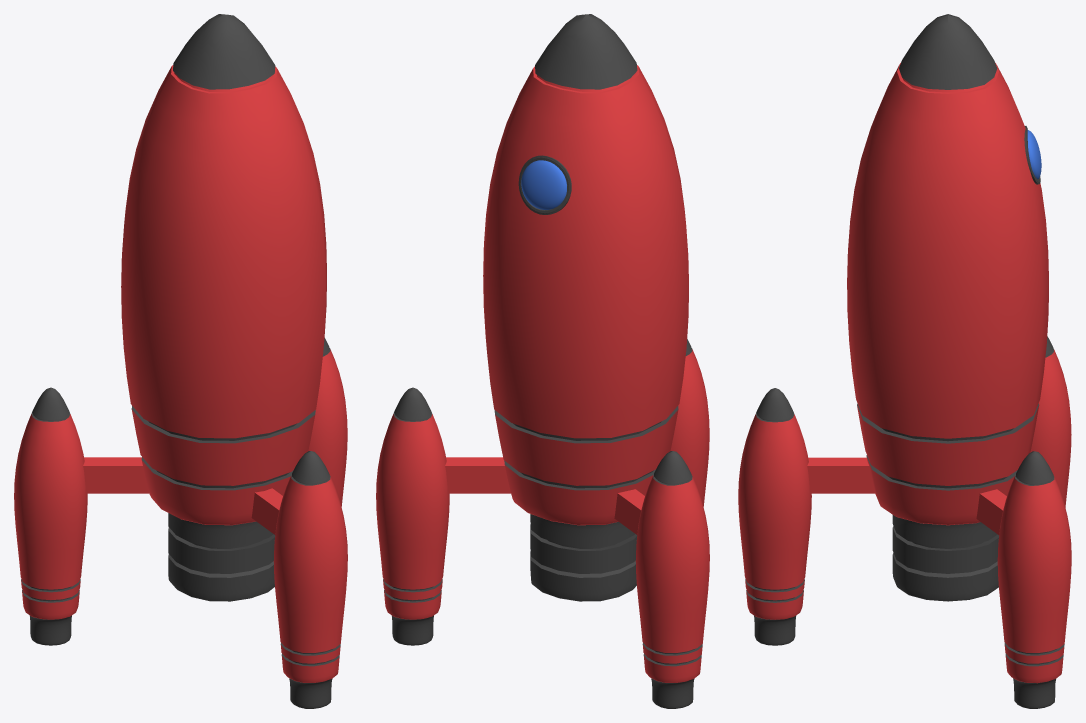
The model's file is Rocket.glb.
3 views of the same model, side by side, from view 1: azimuth 30°, elevation 25°; view 2: azimuth 150°, elevation 25°; view 3: azimuth 270°, elevation 25° (orthographic).
Visible parts, largest first — view 1: Rocket; view 2: Rocket; view 3: Rocket.
Boxes of the visible parts, bbox=[...] form: Rocket: bbox=[14, 14, 347, 708]; Rocket: bbox=[376, 14, 709, 708]; Rocket: bbox=[738, 14, 1071, 708].
Size of the model in its own units: 4.14 by 7.6 by 3.69.
